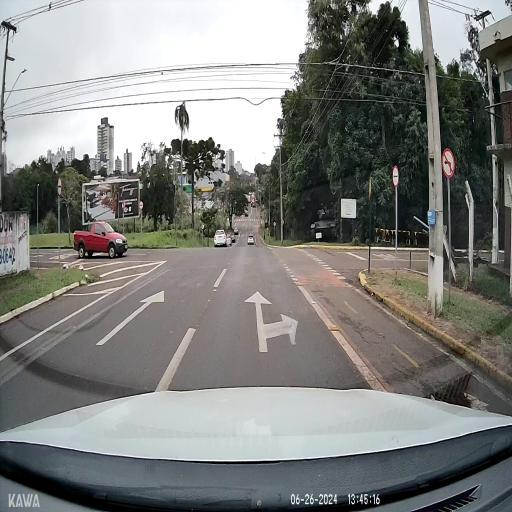R-24a: (442, 148, 454, 178), (392, 164, 399, 187), (139, 200, 143, 210)
